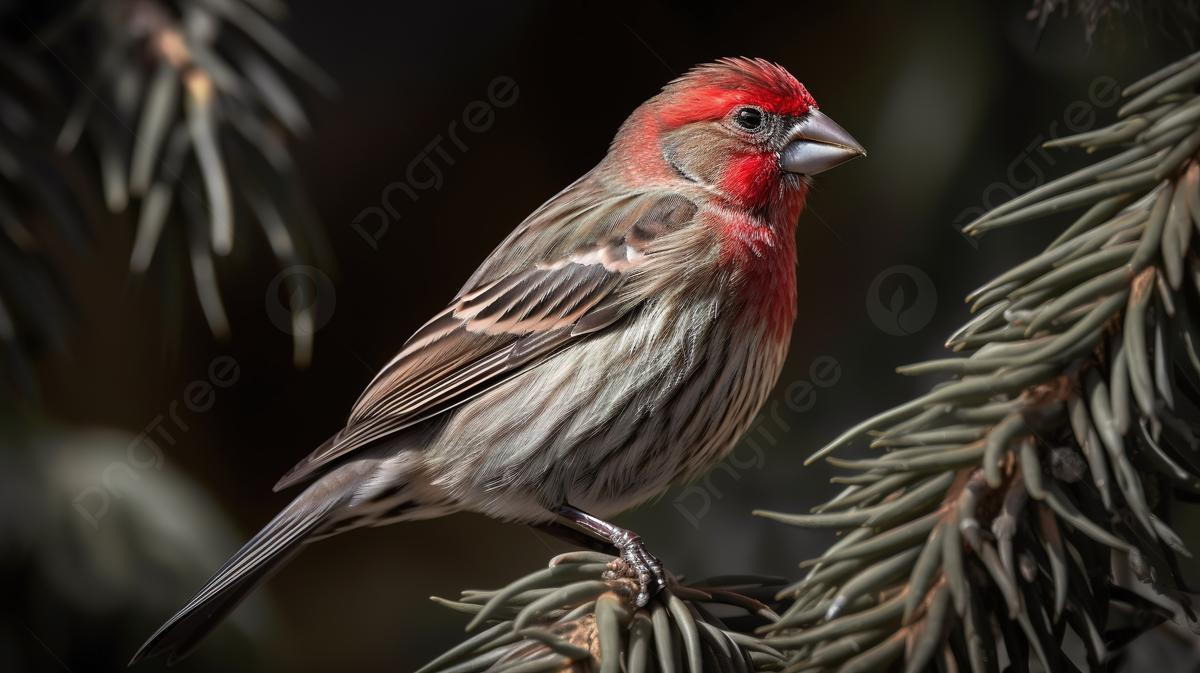bird: (136, 58, 864, 660)
